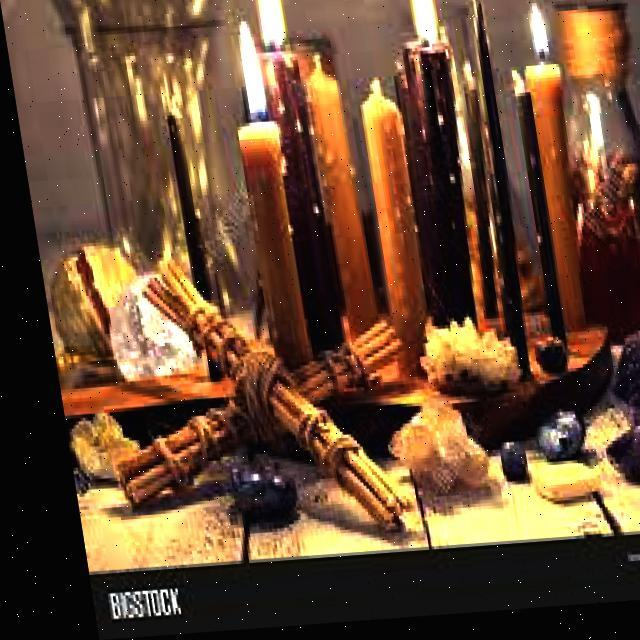Fire: (219, 18, 272, 124), (517, 8, 555, 71), (401, 0, 446, 48), (250, 0, 288, 53)
